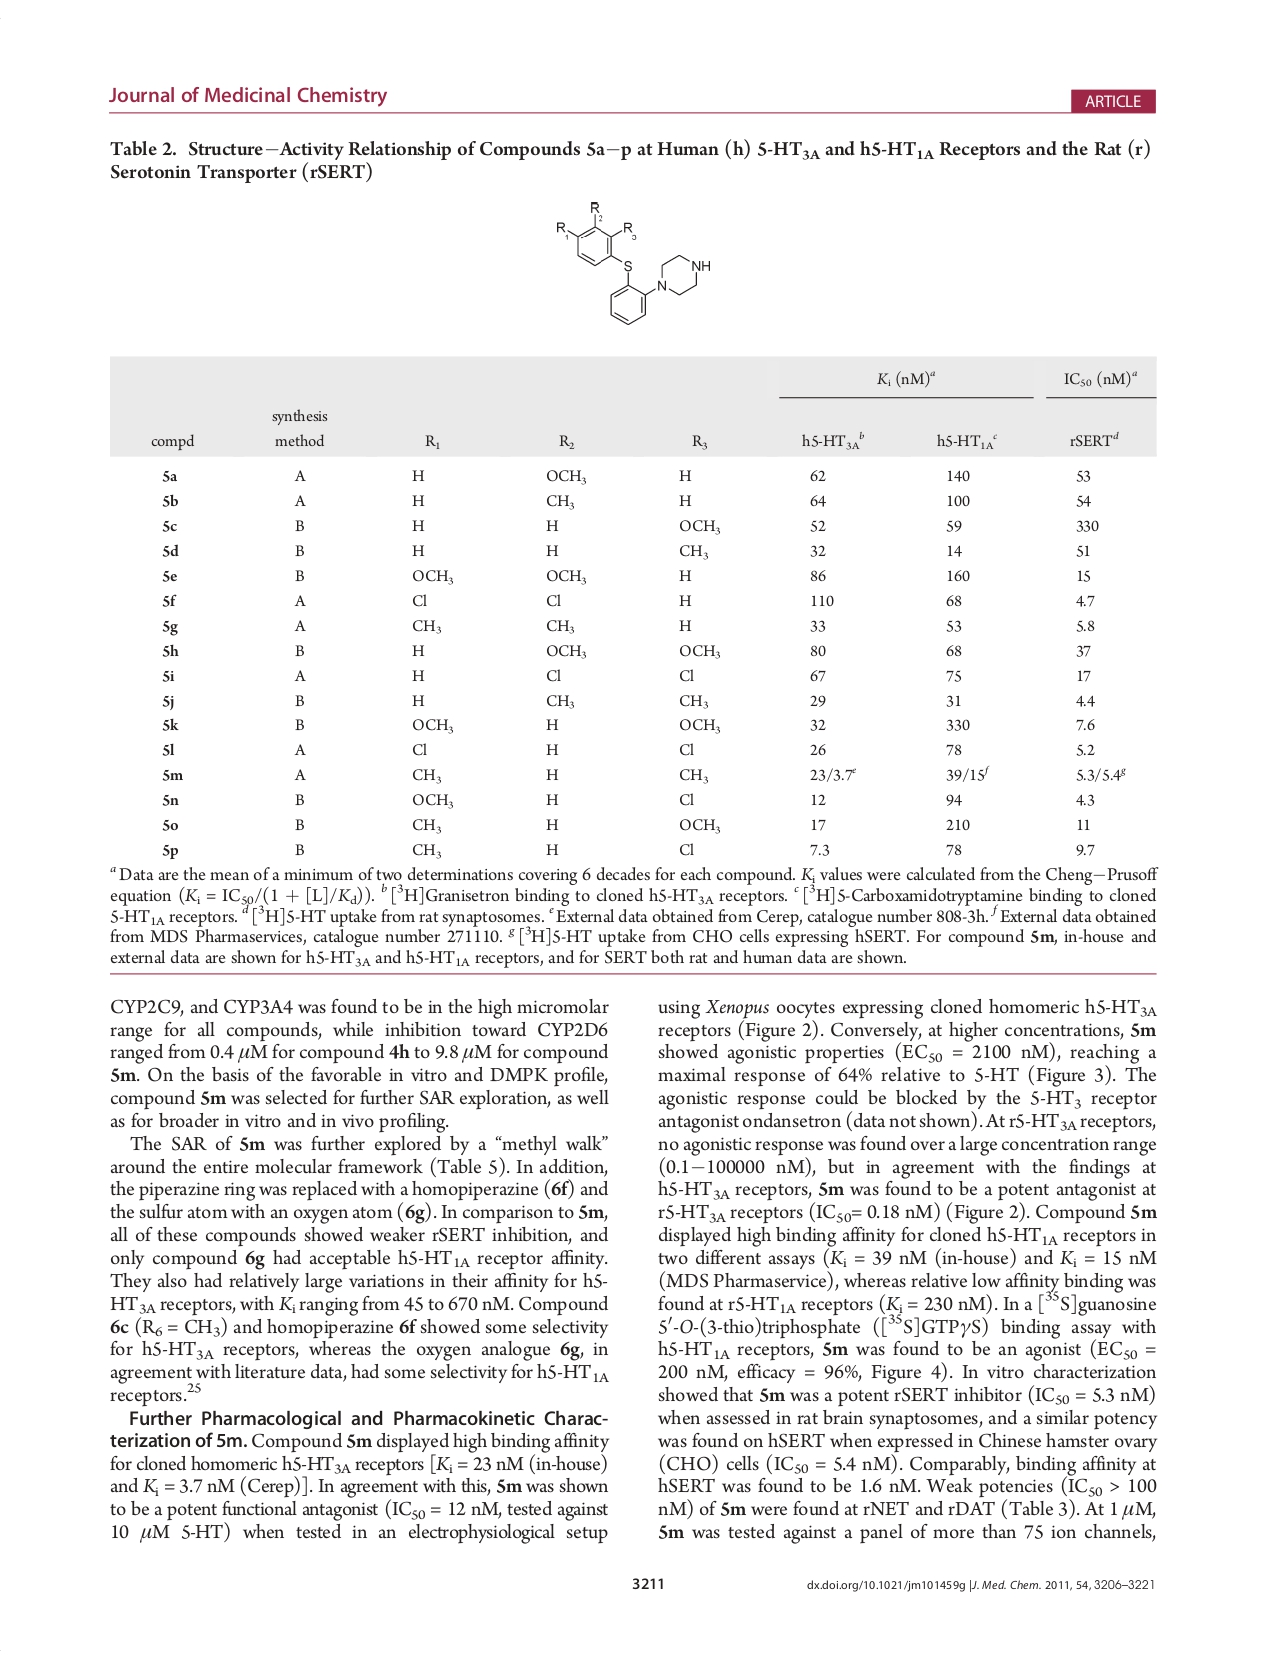exist_molecular: (549, 195, 715, 330)
